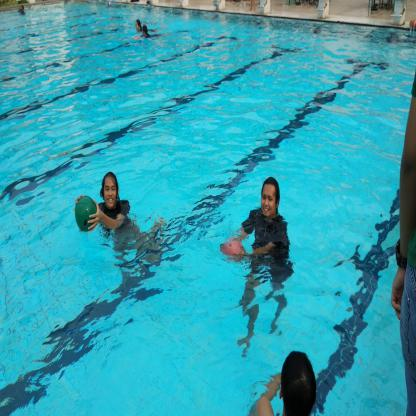green_buoy: (73, 192, 100, 236)
red_buoy: (218, 235, 247, 262)
